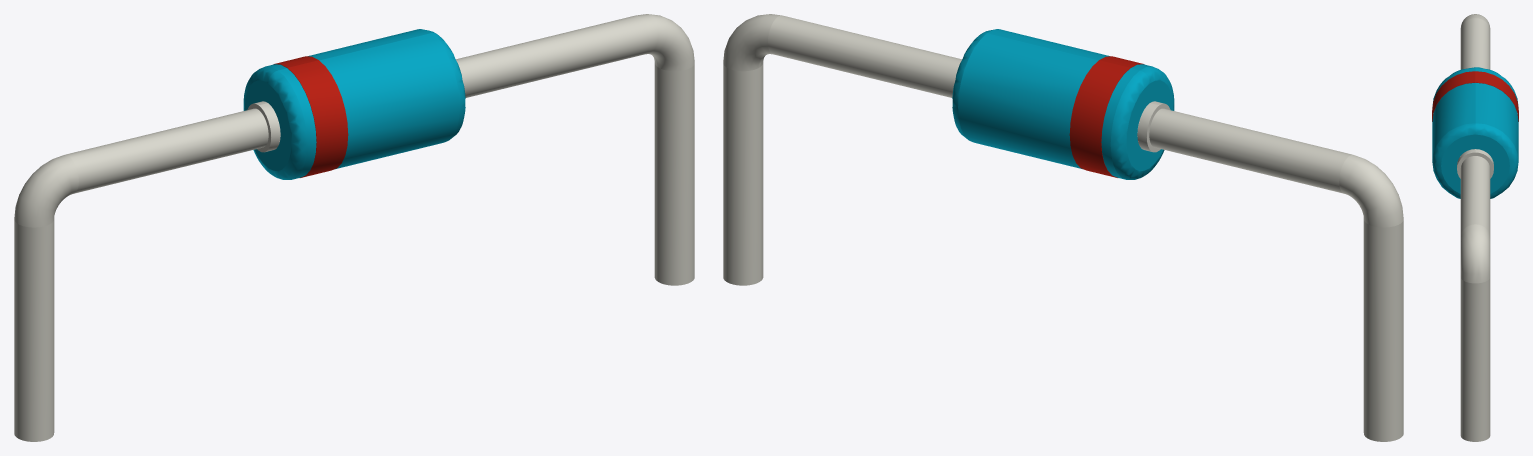
Rendered from kc-d_do-34_sod68_p10.16mm_horizontal.glb.
3 views of the same model, side by side, from view 1: azimuth 30°, elevation 25°; view 2: azimuth 150°, elevation 25°; view 3: azimuth 270°, elevation 25° (orthographic). The views are drawn at different scales.
Visible parts, largest first — view 1: 0.6666666666666666_0.6666666666666666_0.5833333333333334_0.8, 0_0.3333333333333333_0.5_0, 0.4166666666666667_0_0_0; view 2: 0.6666666666666666_0.6666666666666666_0.5833333333333334_0.8, 0_0.3333333333333333_0.5_0, 0.4166666666666667_0_0_0; view 3: 0.6666666666666666_0.6666666666666666_0.5833333333333334_0.8, 0_0.3333333333333333_0.5_0, 0.4166666666666667_0_0_0.
Part boxes in pixels (bbox=[...]): 0.6666666666666666_0.6666666666666666_0.5833333333333334_0.8: bbox=[14, 14, 694, 441]; 0_0.3333333333333333_0.5_0: bbox=[243, 29, 465, 179]; 0.4166666666666667_0_0_0: bbox=[273, 56, 348, 177]; 0.6666666666666666_0.6666666666666666_0.5833333333333334_0.8: bbox=[723, 14, 1403, 441]; 0_0.3333333333333333_0.5_0: bbox=[952, 29, 1174, 179]; 0.4166666666666667_0_0_0: bbox=[1069, 56, 1144, 177]; 0.6666666666666666_0.6666666666666666_0.5833333333333334_0.8: bbox=[1457, 14, 1493, 441]; 0_0.3333333333333333_0.5_0: bbox=[1432, 67, 1518, 198]; 0.4166666666666667_0_0_0: bbox=[1432, 71, 1518, 121].
Bounding box in the file's own units: 1.07 × 0.4605 × 0.161.
